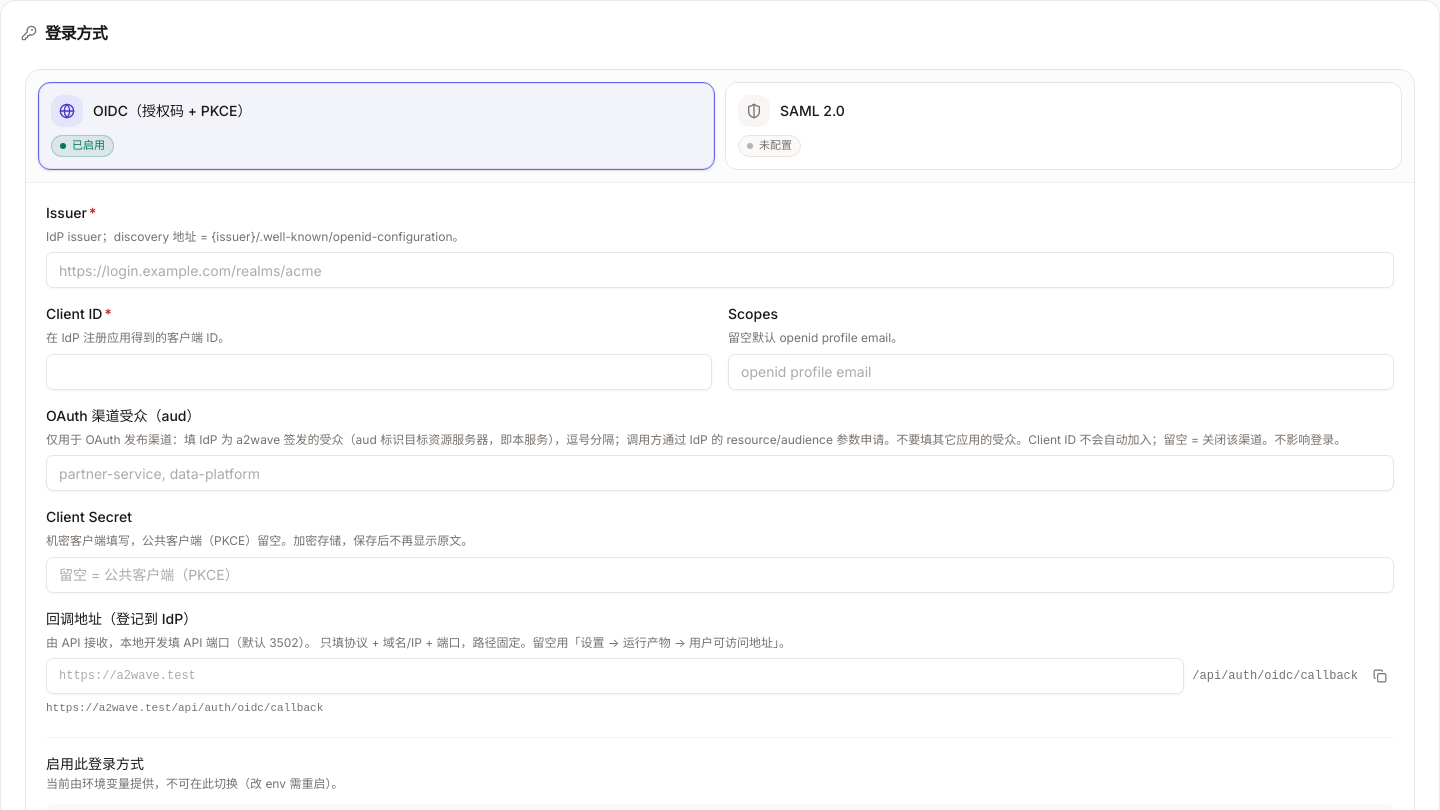
SsoMethodsCard › exposes IdP registration URLs to copy (redirect/ACS/metadata)
This screenshot has width=1440, height=810.
Click the text "SAML 2.0" at (812, 110), box [780,102,845,119]
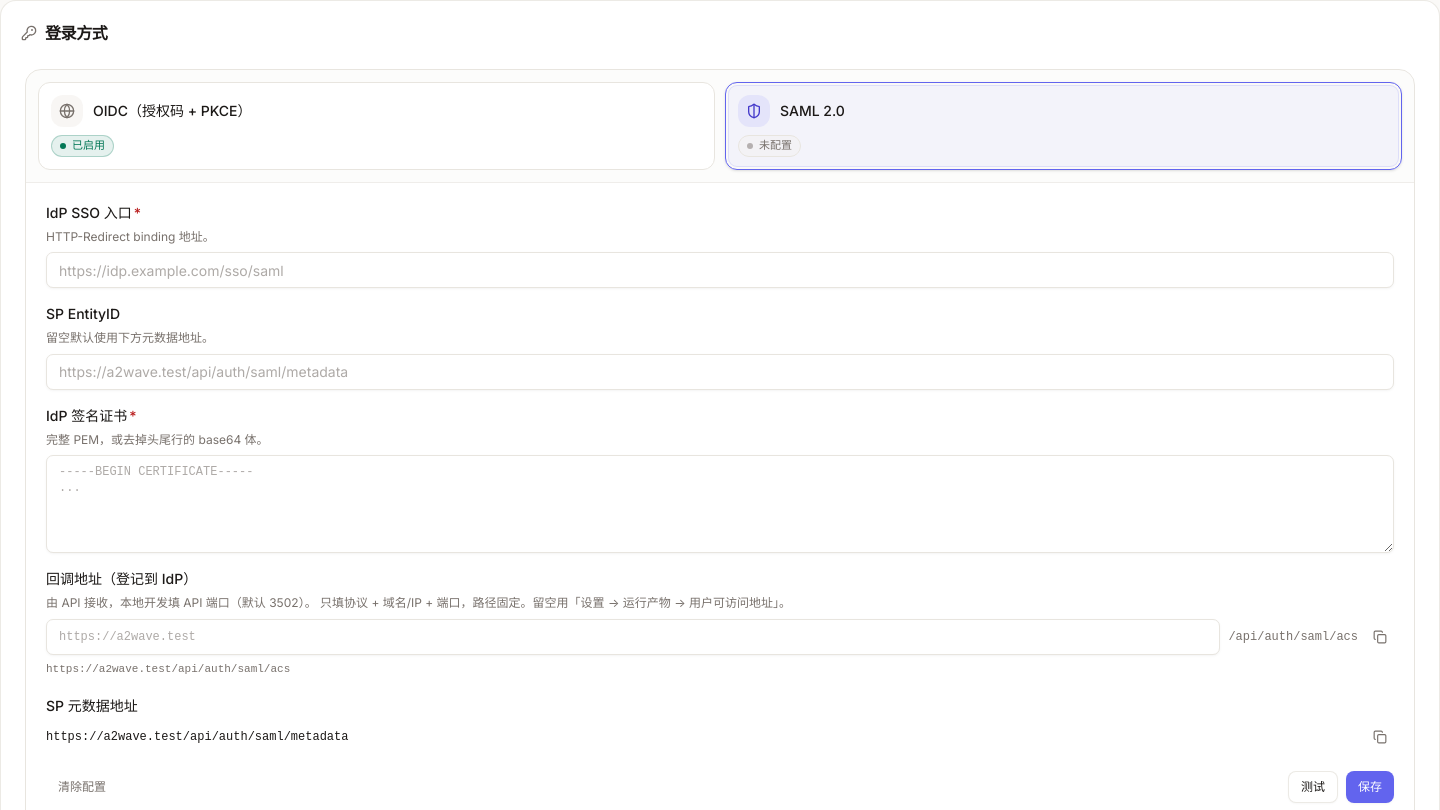
Check: the text "https://a2wave.test/api/auth/saml/acs" is shown, box [46,663,290,675]
Check: the text "https://a2wave.test/api/auth/saml/metadata" is shown, box [46,730,348,744]
